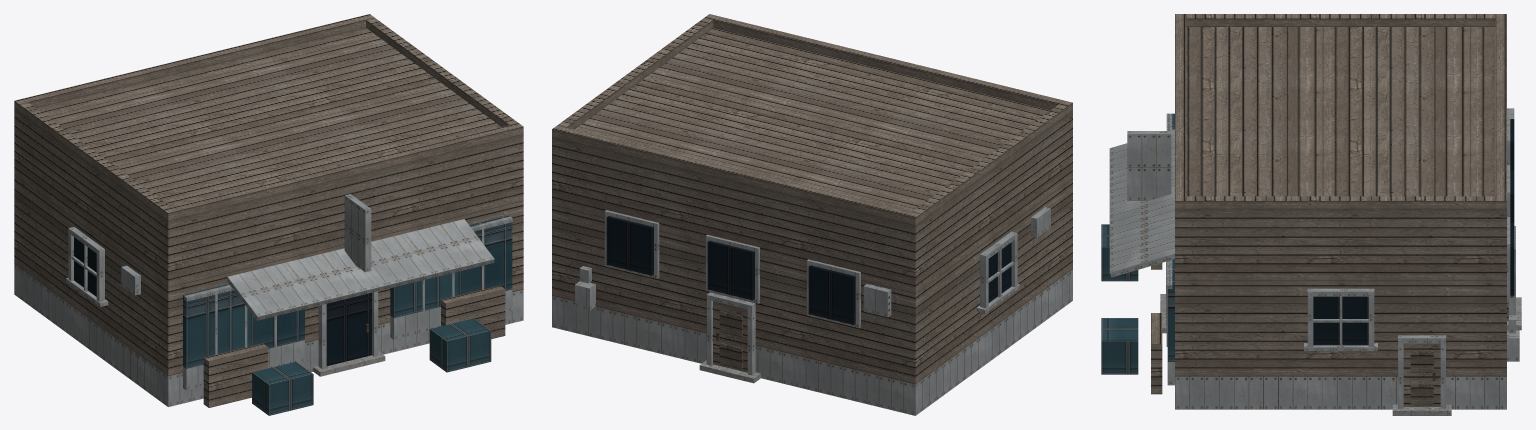
The model's file is anglers-bait-tackle_lod0.gltf.
3 renders of one model, left to right at view 1: azimuth 30°, elevation 25°; view 2: azimuth 150°, elevation 25°; view 3: azimuth 270°, elevation 25°, orthographic. The views are drawn at different scales.
Visible parts, largest first — view 1: anglers-bait-tackle_upper, anglers-bait-tackle__awning, anglers-bait-tackle_fen_07-glass-curtain-blue_1, anglers-bait-tackle_base, anglers-bait-tackle_fen_14-steel-panel_0, anglers-bait-tackle__parapet_front, anglers-bait-tackle__parapet_back, anglers-bait-tackle_fen_07-glass-curtain-blue_2_t, anglers-bait-tackle__rod_rack_a, anglers-bait-tackle__bait_tank_b, anglers-bait-tackle__bait_tank_a, anglers-bait-tackle__parapet_left (+4 smaller); view 2: anglers-bait-tackle_upper, anglers-bait-tackle_base, anglers-bait-tackle_fen_07-glass-curtain-blue_2_t, anglers-bait-tackle_fen_14-steel-panel_0, anglers-bait-tackle__parapet_back, anglers-bait-tackle__parapet_front, anglers-bait-tackle__parapet_left, anglers-bait-tackle__parapet_right, anglers-bait-tackle_fen_18-timber-siding_5, anglers-bait-tackle_fen_18-timber-siding_6_t, anglers-bait-tackle_fen_06-granite_4; view 3: anglers-bait-tackle_upper, anglers-bait-tackle_base, anglers-bait-tackle__awning, anglers-bait-tackle_fen_14-steel-panel_0, anglers-bait-tackle__parapet_right, anglers-bait-tackle__parapet_left, anglers-bait-tackle_fen_07-glass-curtain-blue_2_t, anglers-bait-tackle__blade_sign, anglers-bait-tackle__parapet_back, anglers-bait-tackle__bait_tank_b, anglers-bait-tackle__parapet_front, anglers-bait-tackle_fen_18-timber-siding_5 (+5 smaller).
Part boxes in pixels (<box>): anglers-bait-tackle_upper: <box>14,27,523,375</box>; anglers-bait-tackle__awning: <box>227,219,494,320</box>; anglers-bait-tackle_fen_07-glass-curtain-blue_1: <box>183,215,512,368</box>; anglers-bait-tackle_base: <box>14,264,523,406</box>; anglers-bait-tackle_fen_14-steel-panel_0: <box>66,216,512,390</box>; anglers-bait-tackle__parapet_front: <box>163,123,523,220</box>; anglers-bait-tackle__parapet_back: <box>14,14,374,111</box>; anglers-bait-tackle_fen_07-glass-curtain-blue_2_t: <box>74,237,371,365</box>; anglers-bait-tackle__rod_rack_a: <box>203,343,268,407</box>; anglers-bait-tackle__bait_tank_b: <box>429,318,491,372</box>; anglers-bait-tackle__bait_tank_a: <box>252,361,313,415</box>; anglers-bait-tackle__parapet_left: <box>19,102,171,216</box>; anglers-bait-tackle_upper: <box>552,28,1072,384</box>; anglers-bait-tackle_base: <box>552,269,1072,415</box>; anglers-bait-tackle_fen_07-glass-curtain-blue_2_t: <box>606,216,1011,324</box>; anglers-bait-tackle_fen_14-steel-panel_0: <box>574,207,1050,375</box>; anglers-bait-tackle__parapet_back: <box>552,125,920,225</box>; anglers-bait-tackle__parapet_front: <box>704,14,1072,113</box>; anglers-bait-tackle__parapet_left: <box>912,104,1067,221</box>; anglers-bait-tackle__parapet_right: <box>558,18,713,129</box>; anglers-bait-tackle_fen_18-timber-siding_5: <box>713,301,747,372</box>; anglers-bait-tackle_fen_18-timber-siding_6_t: <box>719,311,742,369</box>; anglers-bait-tackle_fen_06-granite_4: <box>699,360,760,383</box>; anglers-bait-tackle_upper: <box>1175,27,1506,376</box>; anglers-bait-tackle_base: <box>1175,376,1506,409</box>; anglers-bait-tackle__awning: <box>1109,129,1174,277</box>; anglers-bait-tackle_fen_14-steel-panel_0: <box>1166,108,1519,408</box>; anglers-bait-tackle__parapet_right: <box>1186,196,1495,209</box>; anglers-bait-tackle__parapet_left: <box>1186,14,1495,26</box>; anglers-bait-tackle_fen_07-glass-curtain-blue_2_t: <box>1313,119,1514,345</box>; anglers-bait-tackle__blade_sign: <box>1127,131,1171,200</box>; anglers-bait-tackle__parapet_back: <box>1495,14,1506,209</box>; anglers-bait-tackle__bait_tank_b: <box>1101,318,1138,374</box>; anglers-bait-tackle__parapet_front: <box>1175,14,1185,209</box>; anglers-bait-tackle_fen_18-timber-siding_5: <box>1403,302,1508,406</box>.
Bounding box in the file's own units: 12.68 × 6.25 × 11.4.
